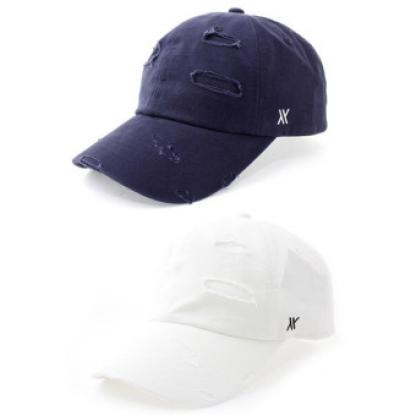cap: (55, 1, 348, 209), (56, 212, 344, 400)
